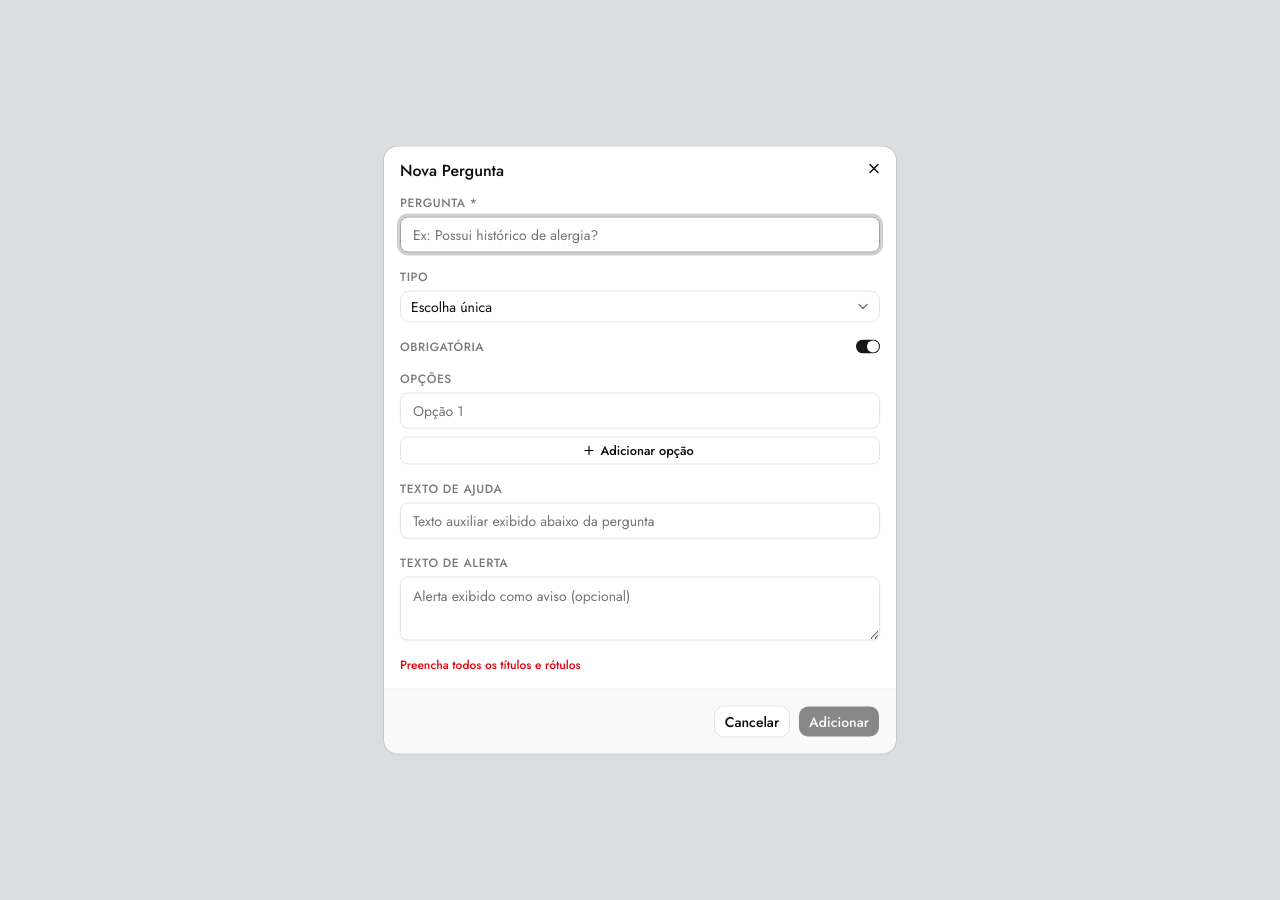
QuestionEditorDialog › does not offer the face diagram type when allowedTypes excludes it (regression: anamnesis editor offered a type it cannot render)
What coordinates should you click on to do the following:
click the dropdown
I would click on:
 (451, 306)
Its box is left=400, top=290, right=880, bottom=322.
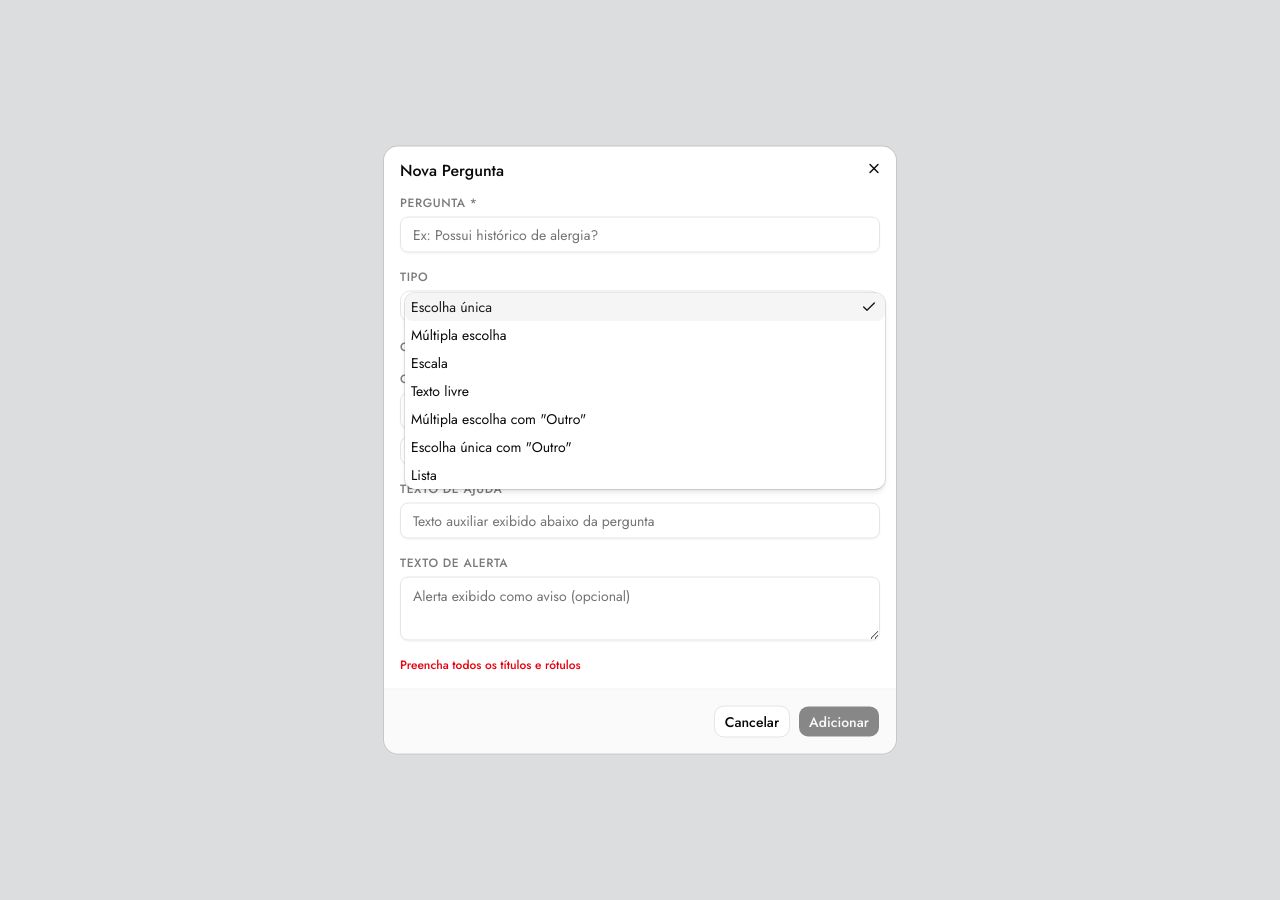
Expected: the option "Lista" is shown, left=411, top=464, right=437, bottom=484
